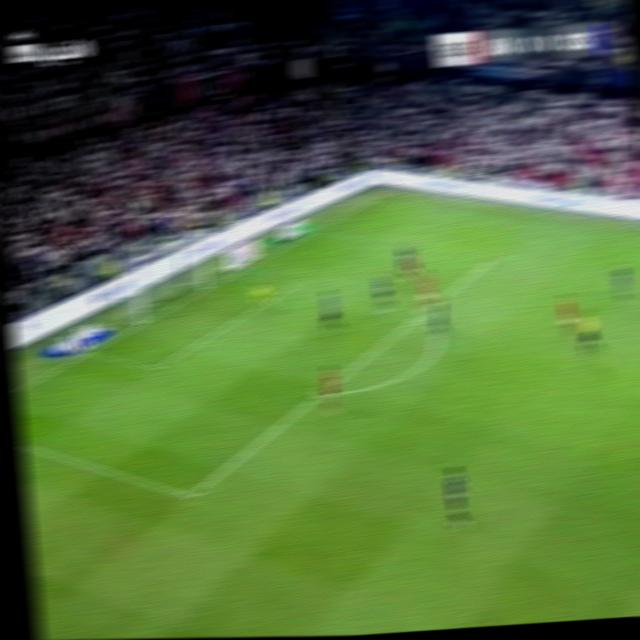bigarea_bottom_inner: (178, 482, 204, 507)
bigarea_top_inner: (480, 250, 502, 272)
bigarea_top_outter: (308, 221, 327, 238)
bottom_arc_area_intersection: (308, 384, 331, 405)
corner: (376, 184, 399, 199)
smallarea_bottom_inner: (145, 355, 169, 379)
smallarea_bottom_outter: (79, 343, 101, 359)
smallarea_top_inner: (291, 271, 311, 286)
smallarea_top_outter: (236, 259, 258, 276)
top_arc_area_intersection: (411, 303, 434, 325)
